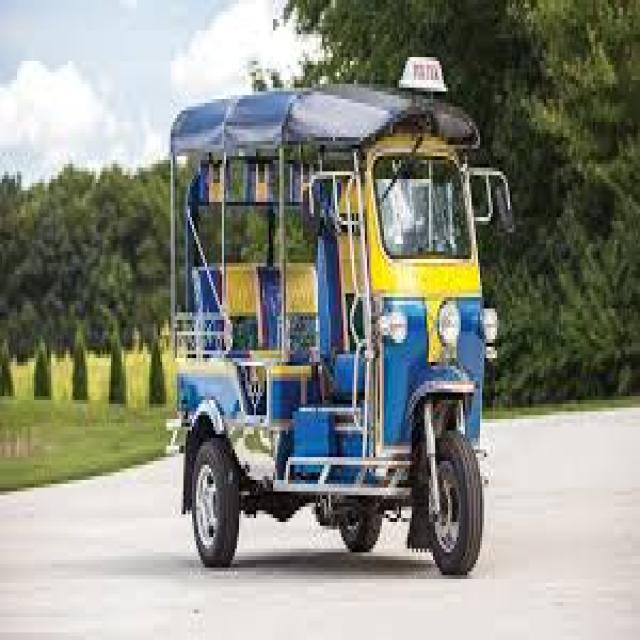tuktuk: (130, 22, 532, 610)
